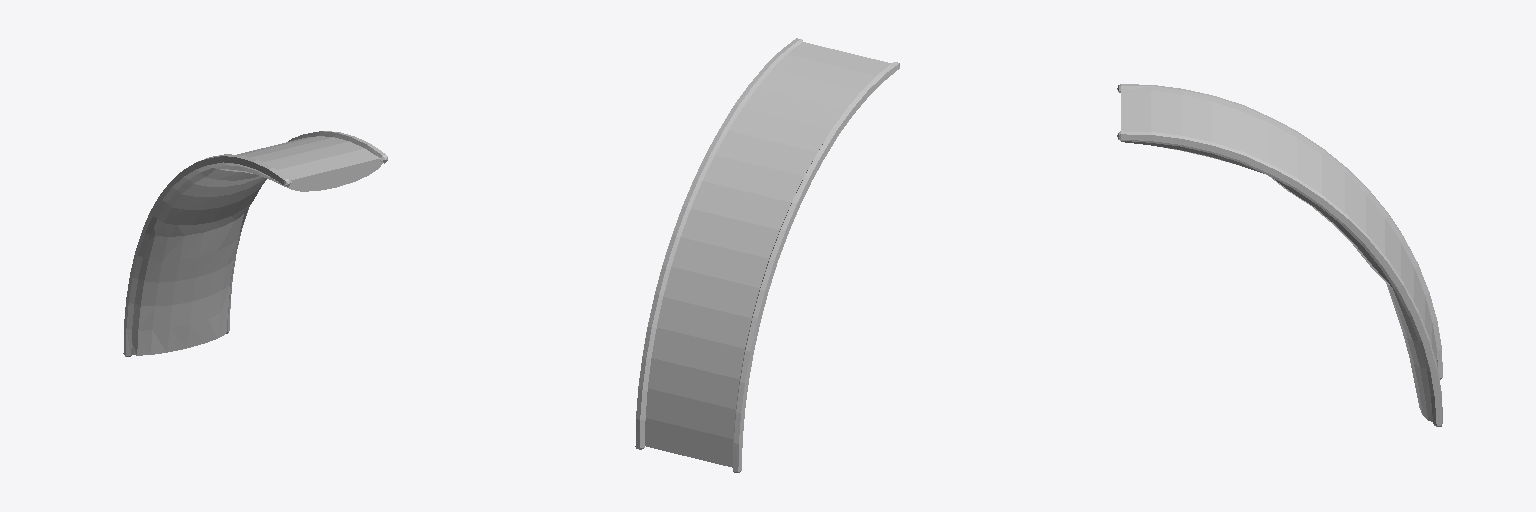
File: env_racetrack_90degreesteep_col.obj
3 renders of one model, left to right at view 1: azimuth 30°, elevation 25°; view 2: azimuth 150°, elevation 25°; view 3: azimuth 270°, elevation 25°, orthographic.
Parts seen in each view (by area): view 1: polySurface241 polySurface195, polySurface196 polySurface180, polySurface202 polySurface182, polySurface199 polySurface181, polySurface208 polySurface184, polySurface205 polySurface183, polySurface214 polySurface186, polySurface217 polySurface187, polySurface238 polySurface194, polySurface211 polySurface185, polySurface220 polySurface188, polySurface235 polySurface193; view 2: polySurface208 polySurface184, polySurface211 polySurface185, polySurface214 polySurface186, polySurface205 polySurface183, polySurface217 polySurface187, polySurface202 polySurface182, polySurface220 polySurface188, polySurface199 polySurface181, polySurface223 polySurface189, polySurface196 polySurface180, polySurface226 polySurface190, polySurface229 polySurface191 (+4 smaller); view 3: polySurface238 polySurface194, polySurface235 polySurface193, polySurface232 polySurface192, polySurface241 polySurface195, polySurface229 polySurface191, polySurface226 polySurface190, polySurface223 polySurface189, polySurface220 polySurface188, polySurface217 polySurface187, polySurface214 polySurface186, polySurface211 polySurface185, polySurface208 polySurface184 (+2 smaller).
Boxes of the visible parts, x1=… form: polySurface241 polySurface195: x1=275, y1=149, x2=382, y2=191; polySurface196 polySurface180: x1=131, y1=309, x2=227, y2=355; polySurface202 polySurface182: x1=135, y1=260, x2=233, y2=305; polySurface199 polySurface181: x1=132, y1=285, x2=229, y2=330; polySurface208 polySurface184: x1=144, y1=214, x2=243, y2=260; polySurface205 polySurface183: x1=138, y1=238, x2=238, y2=282; polySurface214 polySurface186: x1=158, y1=186, x2=261, y2=224; polySurface217 polySurface187: x1=167, y1=178, x2=266, y2=209; polySurface238 polySurface194: x1=258, y1=141, x2=364, y2=181; polySurface211 polySurface185: x1=151, y1=203, x2=251, y2=236; polySurface220 polySurface188: x1=178, y1=177, x2=264, y2=196; polySurface235 polySurface193: x1=243, y1=137, x2=348, y2=175; polySurface208 polySurface184: x1=657, y1=297, x2=751, y2=348; polySurface211 polySurface185: x1=663, y1=267, x2=759, y2=317; polySurface214 polySurface186: x1=671, y1=237, x2=768, y2=287; polySurface205 polySurface183: x1=652, y1=328, x2=744, y2=378; polySurface217 polySurface187: x1=681, y1=209, x2=779, y2=258; polySurface202 polySurface182: x1=648, y1=358, x2=739, y2=409; polySurface220 polySurface188: x1=691, y1=181, x2=790, y2=229; polySurface199 polySurface181: x1=646, y1=388, x2=735, y2=438; polySurface223 polySurface189: x1=703, y1=155, x2=803, y2=202; polySurface196 polySurface180: x1=645, y1=418, x2=733, y2=467; polySurface226 polySurface190: x1=715, y1=131, x2=817, y2=175; polySurface229 polySurface191: x1=728, y1=108, x2=830, y2=151; polySurface238 polySurface194: x1=1150, y1=91, x2=1181, y2=149; polySurface235 polySurface193: x1=1180, y1=95, x2=1211, y2=156; polySurface232 polySurface192: x1=1210, y1=102, x2=1241, y2=164; polySurface241 polySurface195: x1=1121, y1=89, x2=1150, y2=144; polySurface229 polySurface191: x1=1238, y1=112, x2=1269, y2=173; polySurface226 polySurface190: x1=1269, y1=123, x2=1296, y2=191; polySurface223 polySurface189: x1=1288, y1=138, x2=1321, y2=206; polySurface220 polySurface188: x1=1313, y1=155, x2=1344, y2=225; polySurface217 polySurface187: x1=1334, y1=174, x2=1365, y2=245; polySurface214 polySurface186: x1=1353, y1=195, x2=1384, y2=267; polySurface211 polySurface185: x1=1370, y1=219, x2=1400, y2=286; polySurface208 polySurface184: x1=1386, y1=243, x2=1413, y2=315.
Size of the model in its own units: 97.01 by 262 by 262.